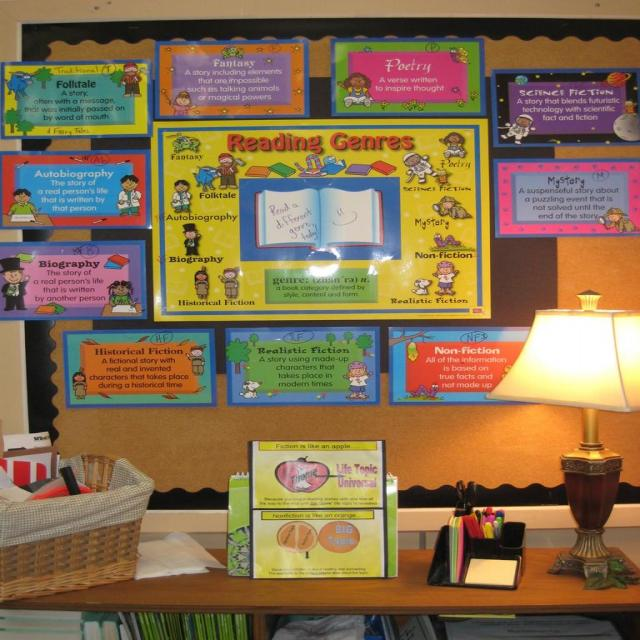table: (0, 547, 639, 639)
